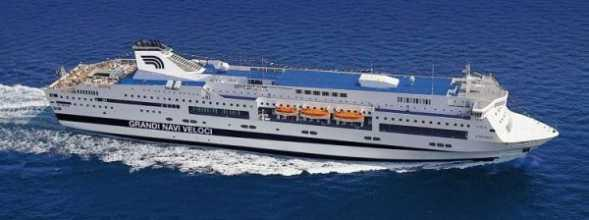youlun: (42, 36, 558, 163)
